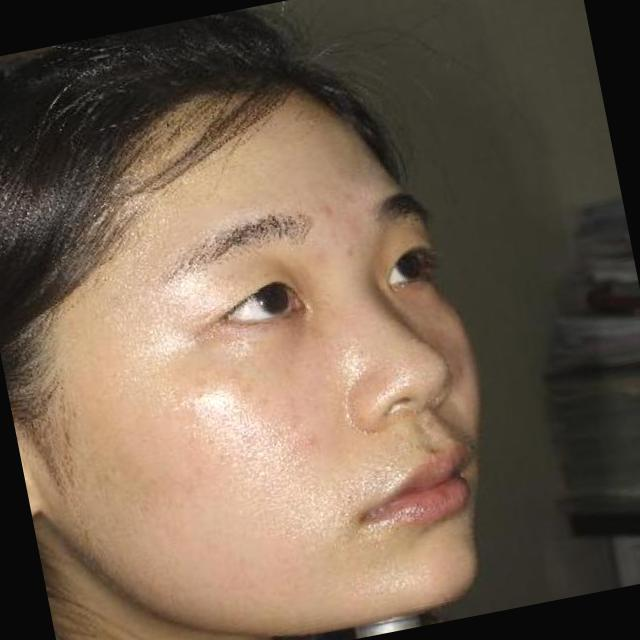darkspot: (187, 372, 210, 392), (228, 364, 250, 384), (308, 435, 328, 453), (240, 386, 258, 402)
nodules: (311, 193, 342, 224), (344, 184, 364, 207), (347, 242, 363, 261)
